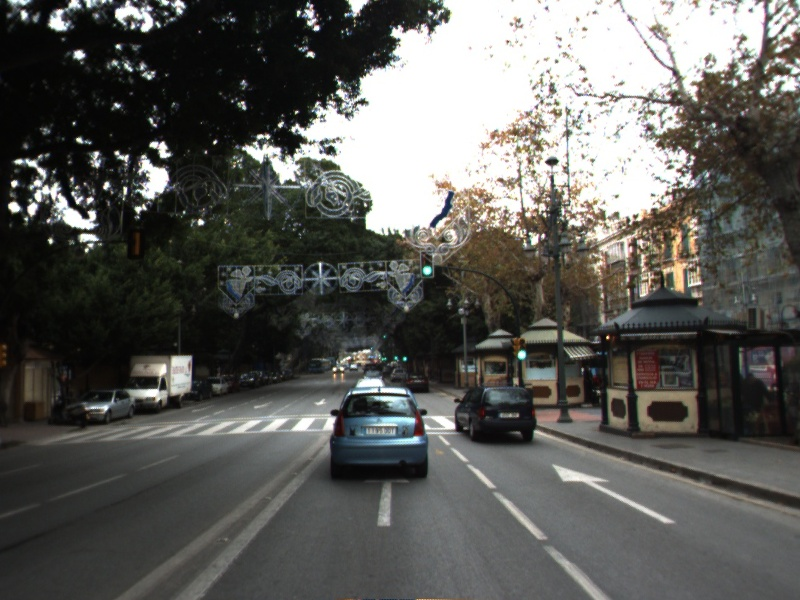STRAIGHT: (550, 462, 679, 526)
